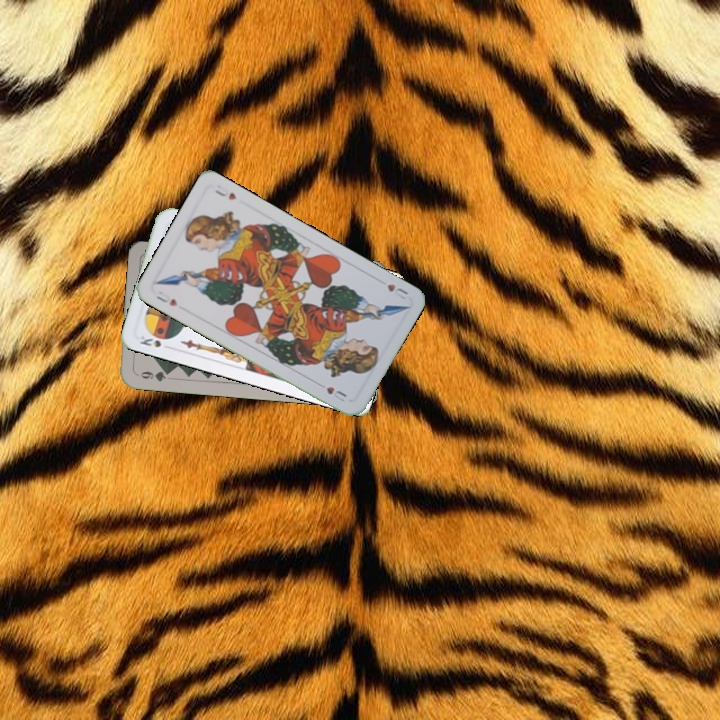G9: (133, 367, 173, 384)
HU: (152, 287, 180, 309), (383, 280, 411, 302)
SK: (136, 332, 164, 350)
